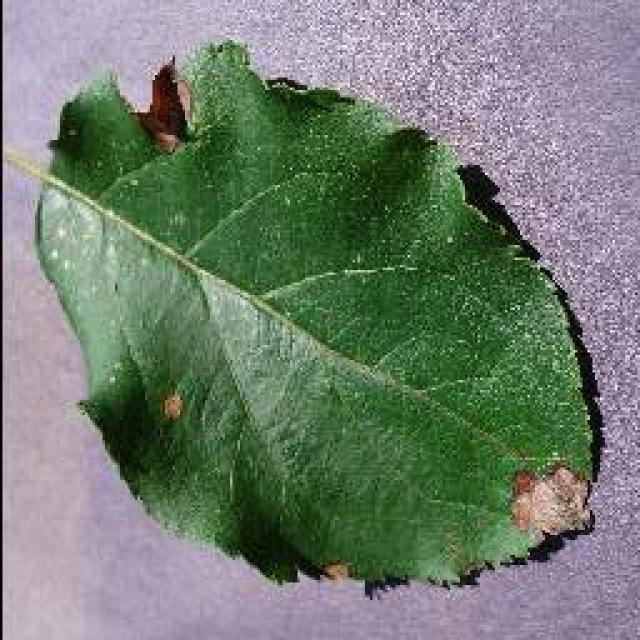apple black rot: (30, 38, 608, 598)
